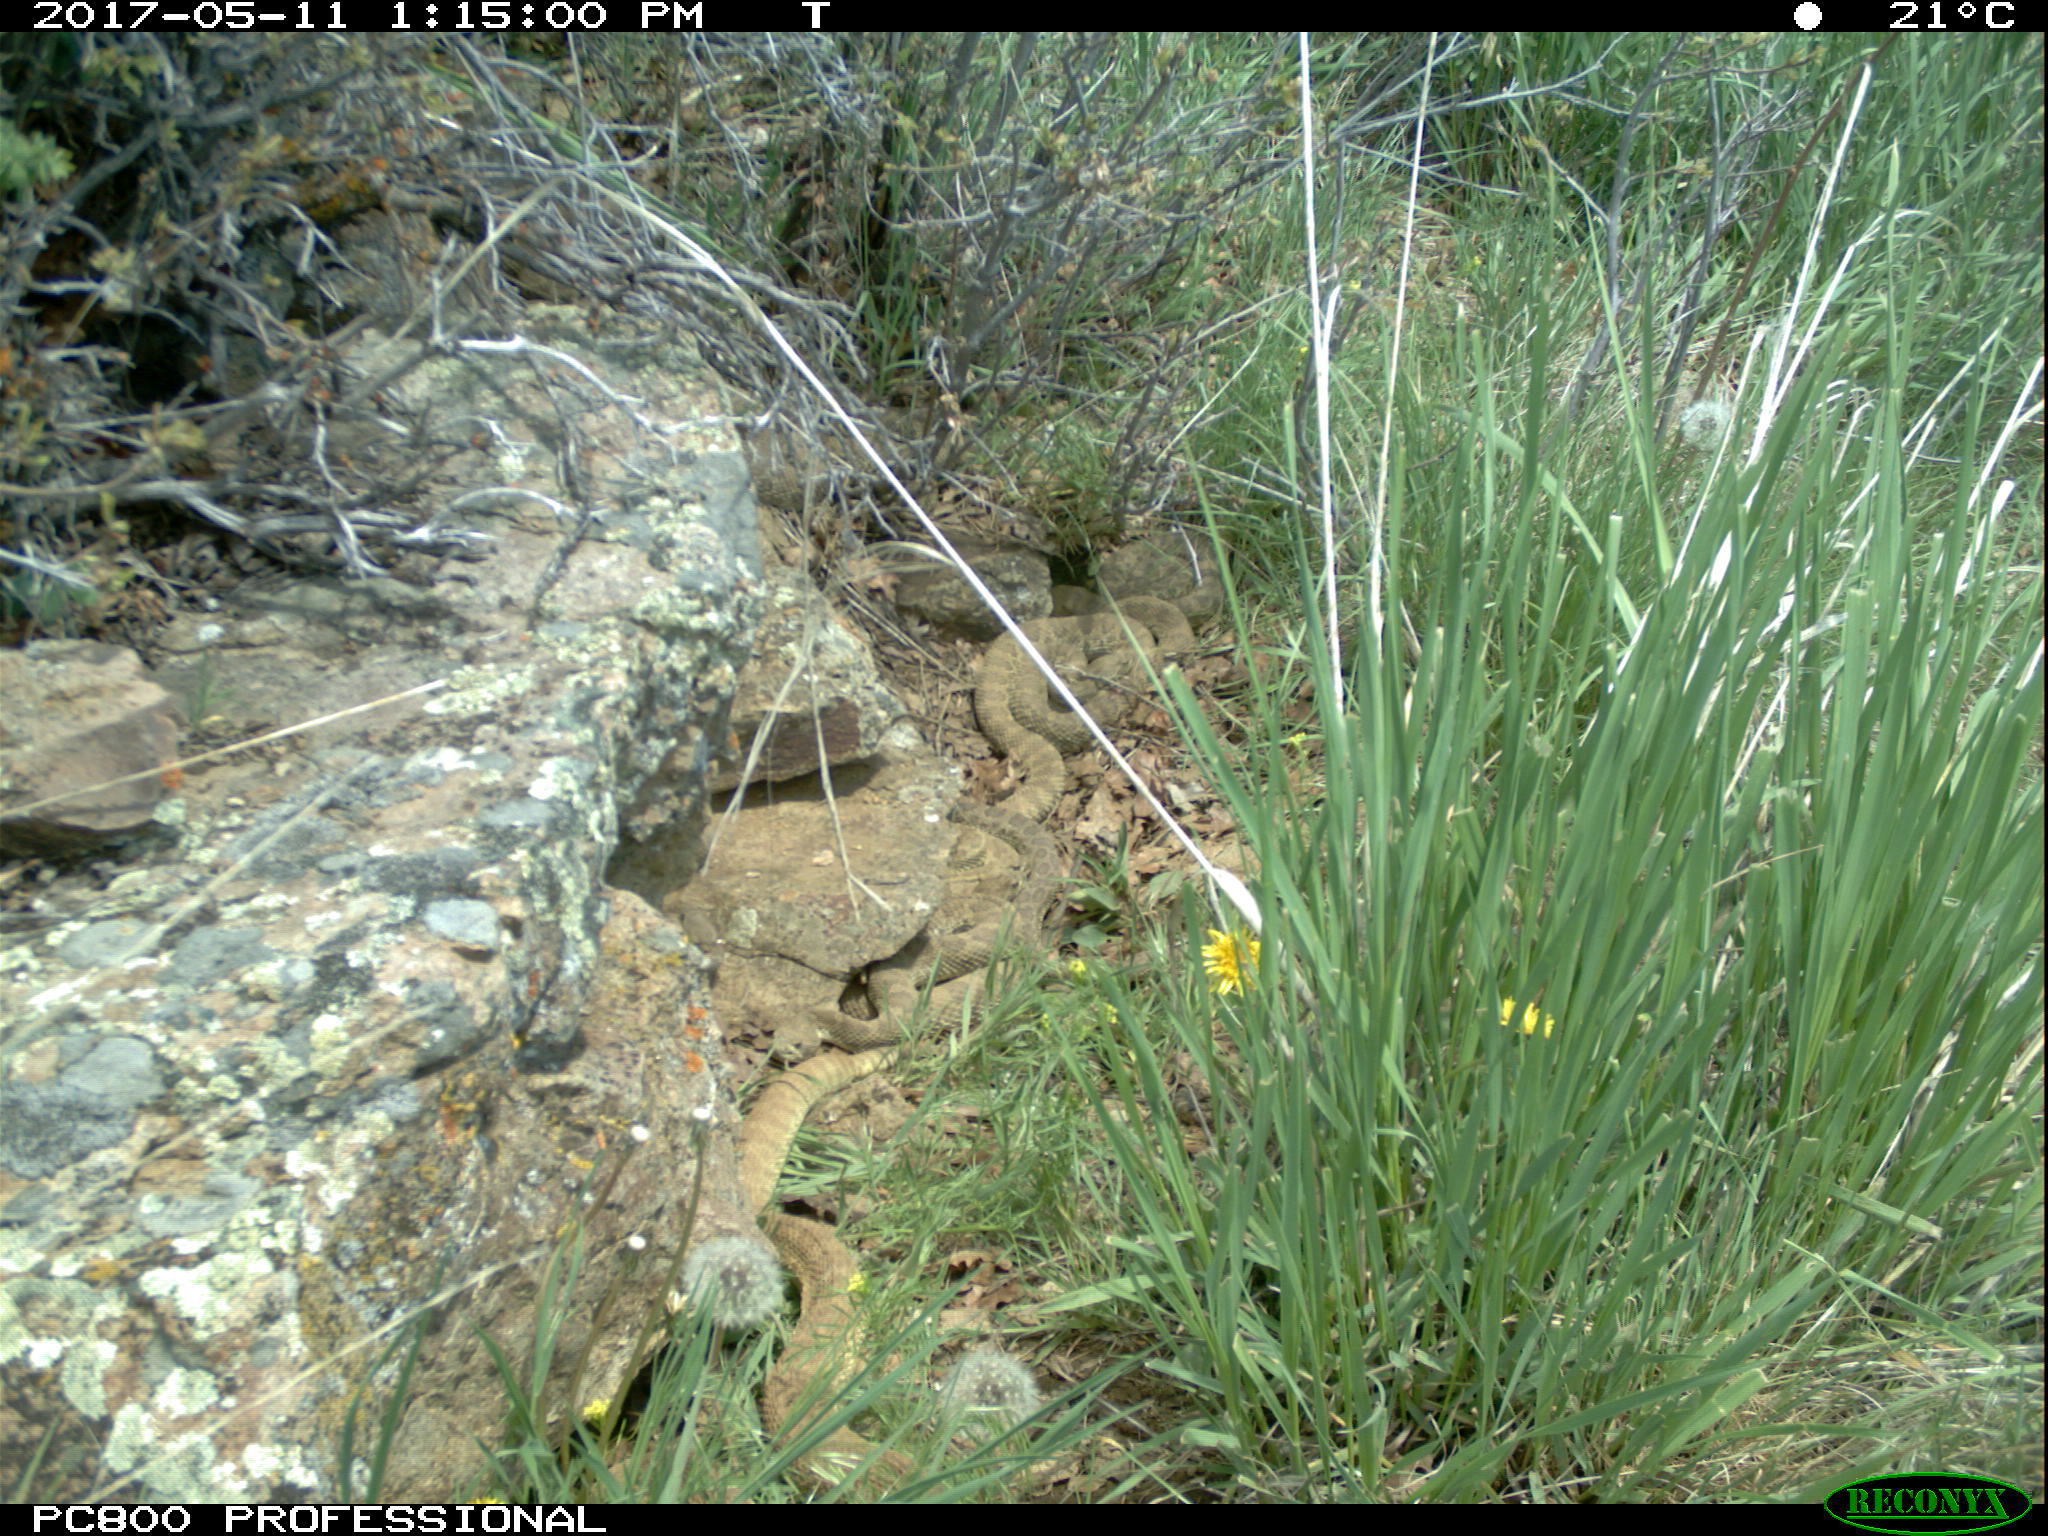snake: (756, 1208, 947, 1507), (980, 581, 1193, 816), (734, 1046, 919, 1228), (821, 891, 1045, 1041), (956, 795, 1061, 913)
